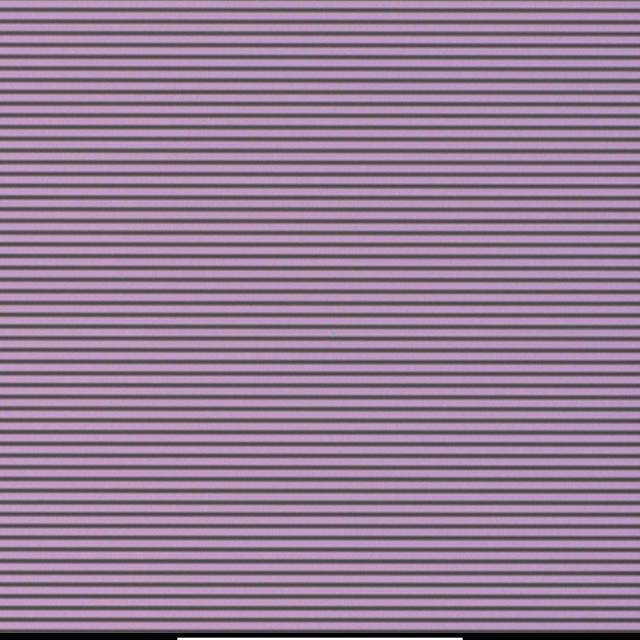nonvisual: (330, 331, 340, 345)
